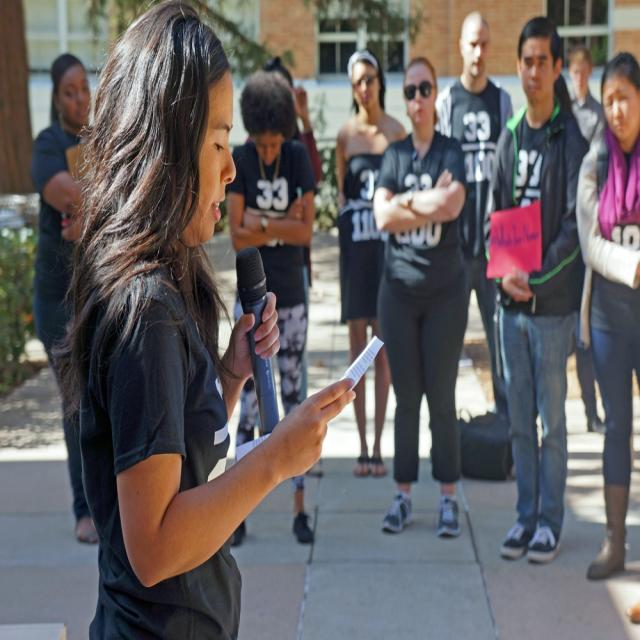body: (45, 0, 358, 638), (478, 14, 592, 568), (371, 53, 476, 545), (220, 67, 318, 550), (332, 43, 414, 481), (573, 50, 640, 582), (27, 50, 98, 547), (434, 8, 514, 419), (241, 51, 325, 410), (563, 42, 607, 150), (615, 603, 640, 628)
